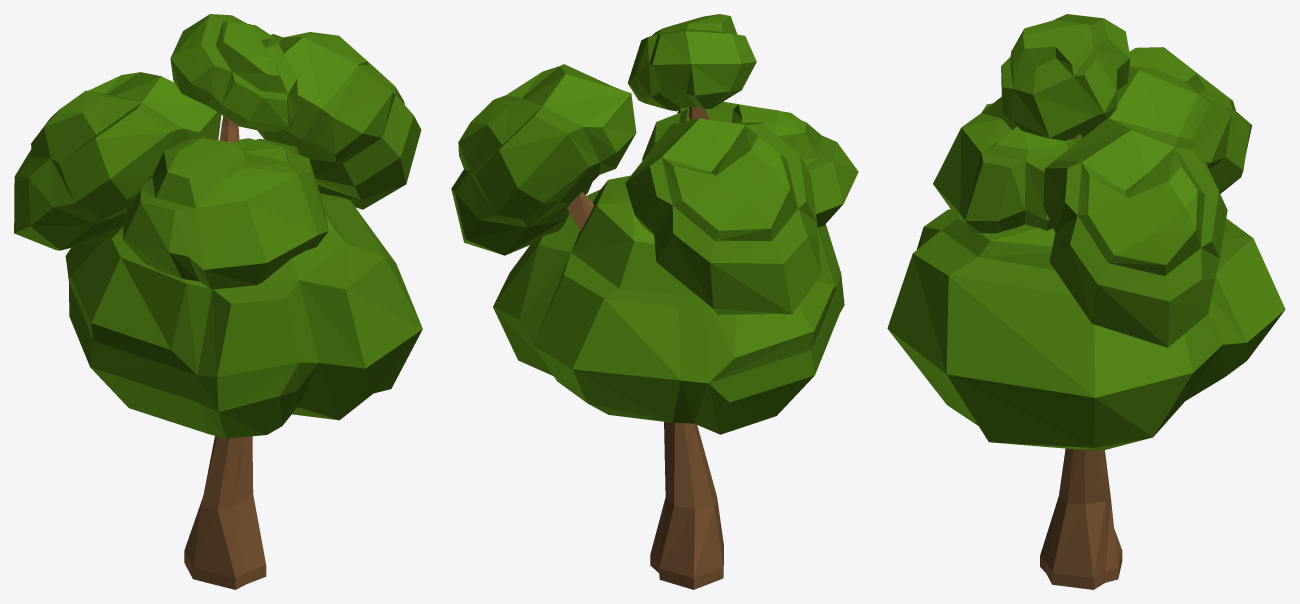
The model's file is Tree_03.FBX.
3 renders of one model, left to right at view 1: azimuth 30°, elevation 25°; view 2: azimuth 150°, elevation 25°; view 3: azimuth 270°, elevation 25°, orthographic.
Parts seen in each view (by area): view 1: Tree_03; view 2: Tree_03; view 3: Tree_03.
Boxes of the visible parts, x1,y1,x2,y2 form: Tree_03: [14, 14, 422, 589]; Tree_03: [451, 14, 858, 589]; Tree_03: [887, 14, 1285, 589].
Bounding box in the file's own units: 3.34 × 4.8 × 3.14.
